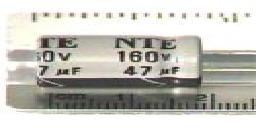Electrolytic-Capacitor: (34, 31, 256, 83)
